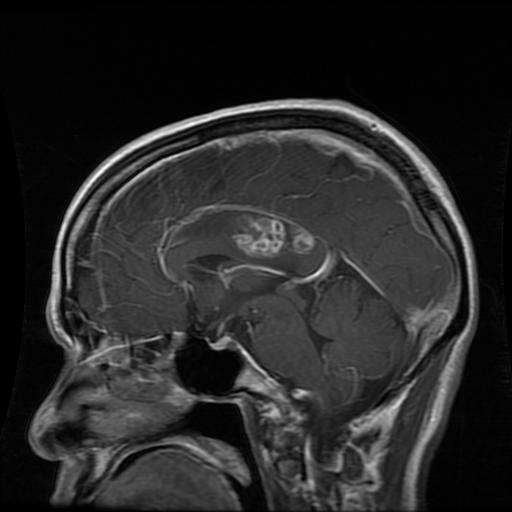Gliomia_tumour: (235, 212, 312, 254)
